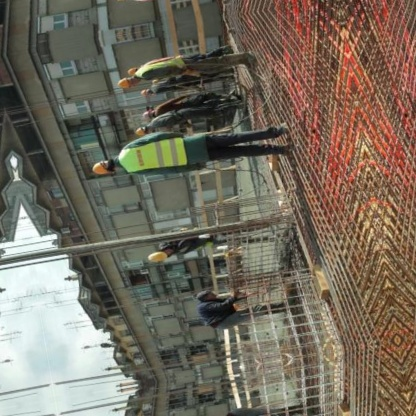vest: (114, 133, 192, 183), (129, 54, 189, 87)
yellow: (143, 246, 172, 265)
